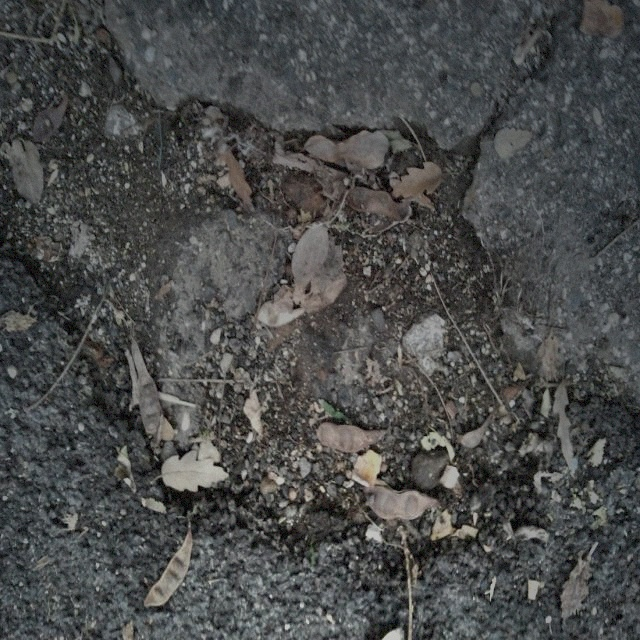pothole: (11, 24, 557, 594)
